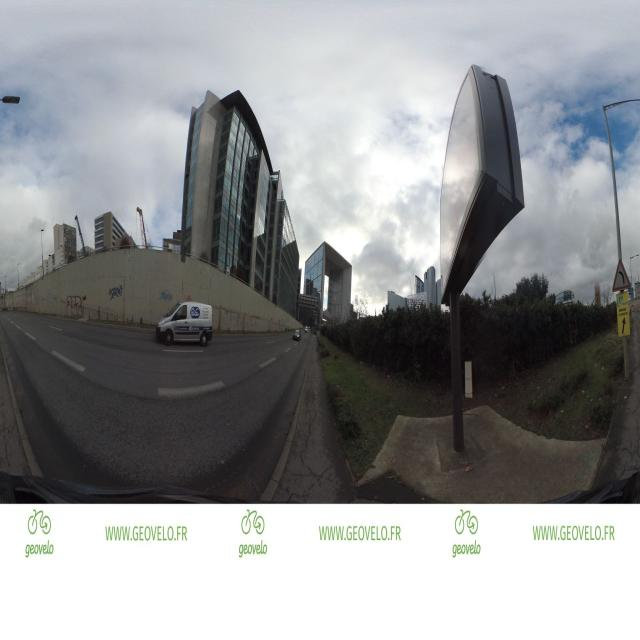car: (154, 299, 213, 346)
